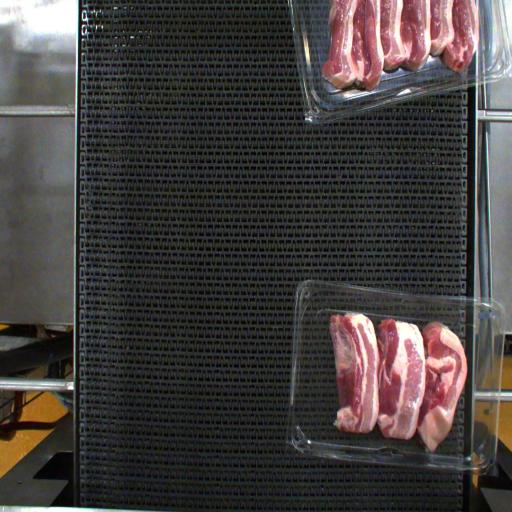twisted-meat: (426, 324, 460, 452)
